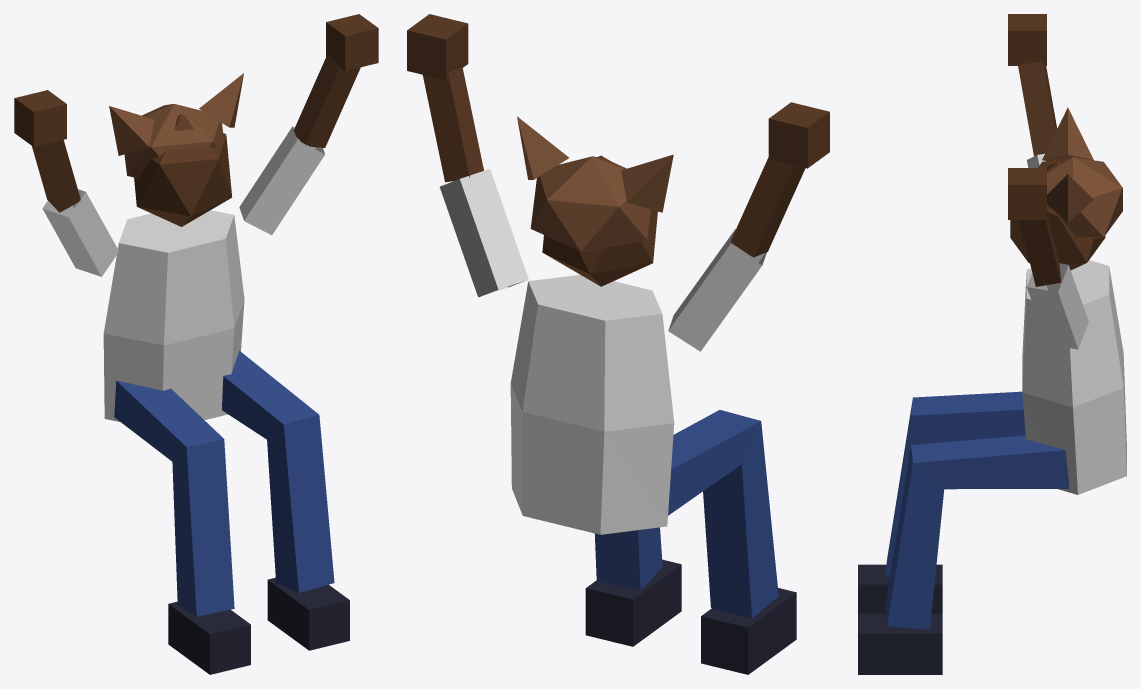
File: fan-6.glb
3 renders of one model, left to right at view 1: azimuth 30°, elevation 25°; view 2: azimuth 150°, elevation 25°; view 3: azimuth 270°, elevation 25°, orthographic. The views are drawn at different scales.
Visible parts, largest first — view 1: fan-6; view 2: fan-6; view 3: fan-6.
Part boxes in pixels (<box>): fan-6: <box>14,14,378,674</box>; fan-6: <box>407,14,829,674</box>; fan-6: <box>858,14,1126,674</box>.
Bounding box in the file's own units: 0.7998 × 1.18 × 0.5323.
